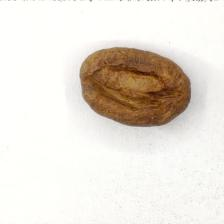NG: (87, 48, 183, 121)
